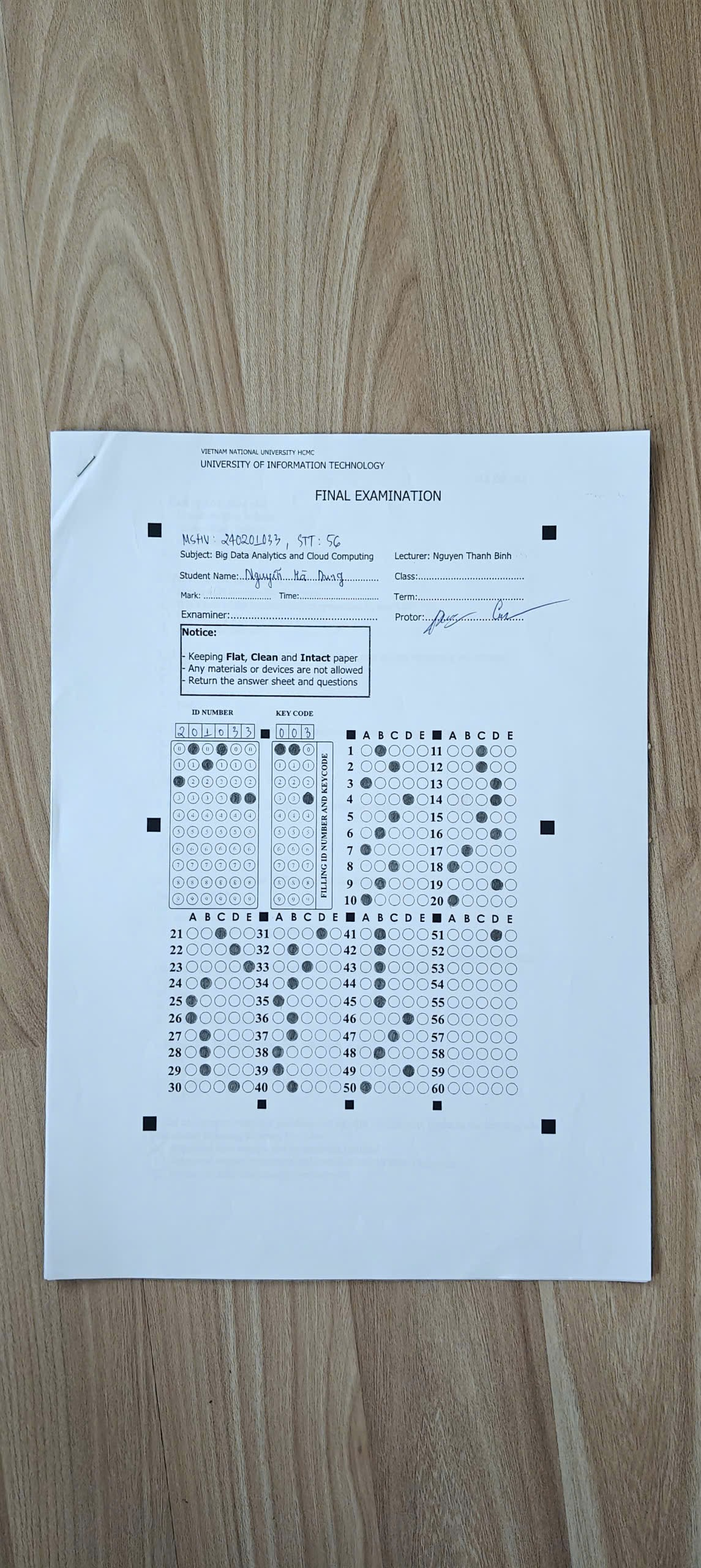paper_region: (153, 529, 550, 1130)
